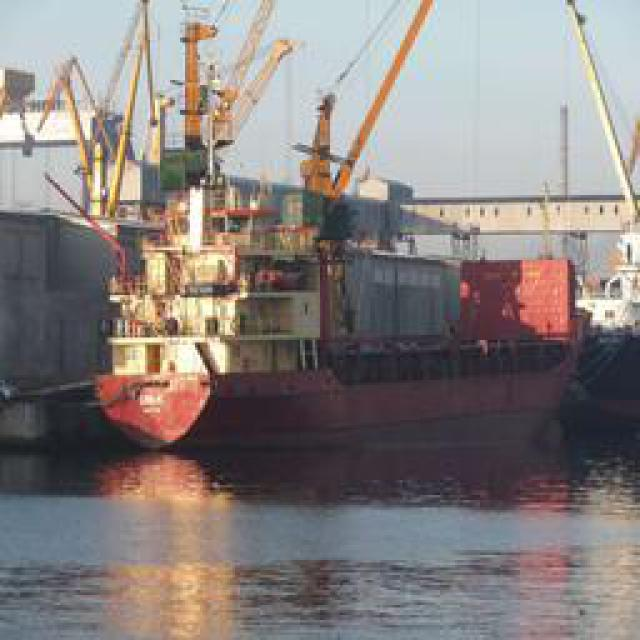Ship: (23, 1, 628, 471)
